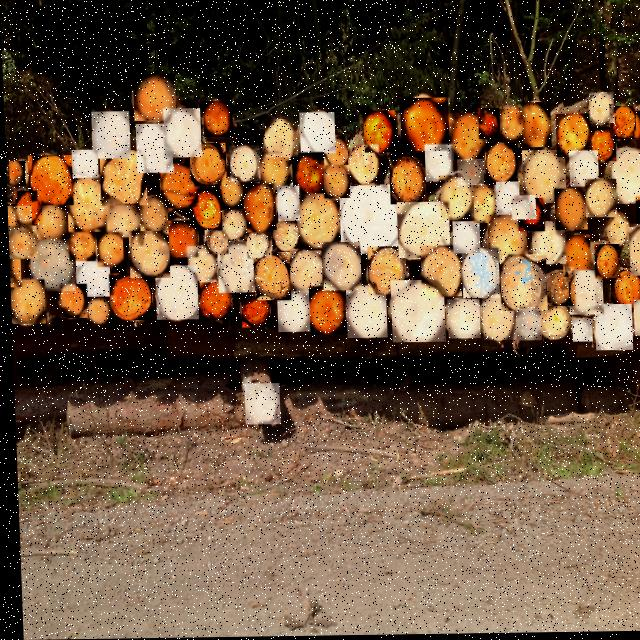wood-log: (337, 186, 397, 255), (388, 281, 443, 344), (395, 203, 449, 259), (98, 150, 146, 206), (399, 99, 449, 152), (498, 256, 545, 312), (65, 175, 110, 232), (296, 191, 338, 249), (28, 239, 73, 292), (521, 151, 565, 205), (153, 266, 196, 320), (27, 155, 72, 206), (215, 242, 257, 294), (343, 287, 385, 339), (418, 247, 460, 298), (132, 74, 176, 121), (107, 273, 150, 321), (459, 249, 498, 300), (485, 216, 526, 264), (127, 231, 168, 279), (365, 247, 405, 296), (320, 243, 360, 291), (162, 109, 201, 158), (90, 112, 130, 159), (388, 156, 425, 206), (135, 124, 172, 174), (447, 114, 485, 162), (307, 287, 344, 335), (592, 306, 630, 352), (252, 255, 289, 301), (610, 150, 640, 206), (480, 294, 515, 342), (159, 164, 197, 208), (188, 143, 226, 187), (241, 184, 275, 233), (555, 115, 591, 159), (566, 272, 601, 317), (438, 177, 473, 222), (298, 113, 335, 155), (8, 280, 43, 324), (363, 111, 398, 154), (287, 251, 321, 295), (241, 384, 277, 425), (530, 223, 564, 266), (188, 190, 222, 232), (345, 146, 379, 187), (275, 291, 308, 333), (553, 190, 586, 232), (291, 153, 324, 195), (197, 279, 229, 321), (74, 259, 109, 297), (483, 145, 517, 184), (521, 104, 550, 149), (445, 301, 478, 340), (583, 181, 616, 219), (264, 120, 297, 158), (608, 272, 640, 311), (560, 236, 589, 279), (105, 202, 139, 238), (164, 221, 197, 258), (536, 307, 568, 343), (6, 206, 31, 251), (545, 268, 573, 308), (228, 146, 259, 182), (568, 152, 598, 189), (34, 205, 65, 240), (202, 102, 232, 138), (424, 146, 453, 183), (471, 186, 498, 225), (259, 156, 289, 191), (185, 247, 214, 283), (239, 293, 268, 328), (138, 196, 167, 231), (270, 222, 299, 256), (7, 226, 36, 259), (57, 284, 85, 318), (95, 233, 122, 267), (588, 129, 615, 163), (608, 108, 635, 142), (451, 223, 479, 255), (322, 166, 349, 199), (516, 200, 543, 233), (592, 246, 618, 280), (14, 191, 40, 225), (67, 229, 94, 261), (588, 94, 614, 127), (275, 187, 299, 222), (513, 310, 539, 342), (218, 177, 242, 210), (498, 110, 522, 143), (494, 183, 518, 216), (322, 137, 347, 168), (220, 210, 245, 241), (70, 150, 97, 178), (456, 160, 483, 187), (477, 109, 499, 140), (245, 233, 270, 259), (627, 229, 640, 278), (510, 197, 535, 221), (87, 299, 110, 324), (203, 230, 226, 255), (570, 320, 591, 344), (7, 247, 19, 287), (8, 161, 24, 186), (6, 204, 16, 238), (631, 302, 640, 338), (635, 113, 640, 151), (634, 199, 640, 226), (639, 285, 640, 306)
